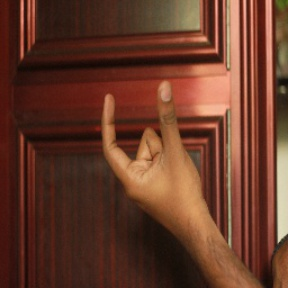U: (91, 69, 198, 206)
